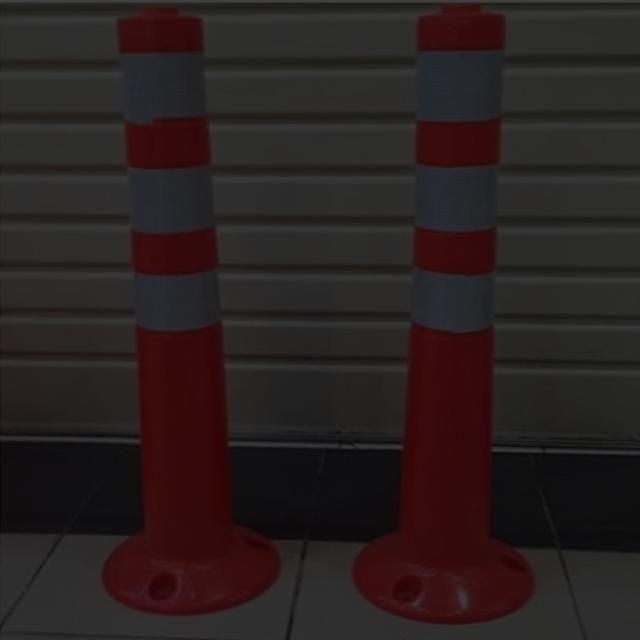Bollard: (108, 0, 249, 582), (396, 0, 506, 574)
